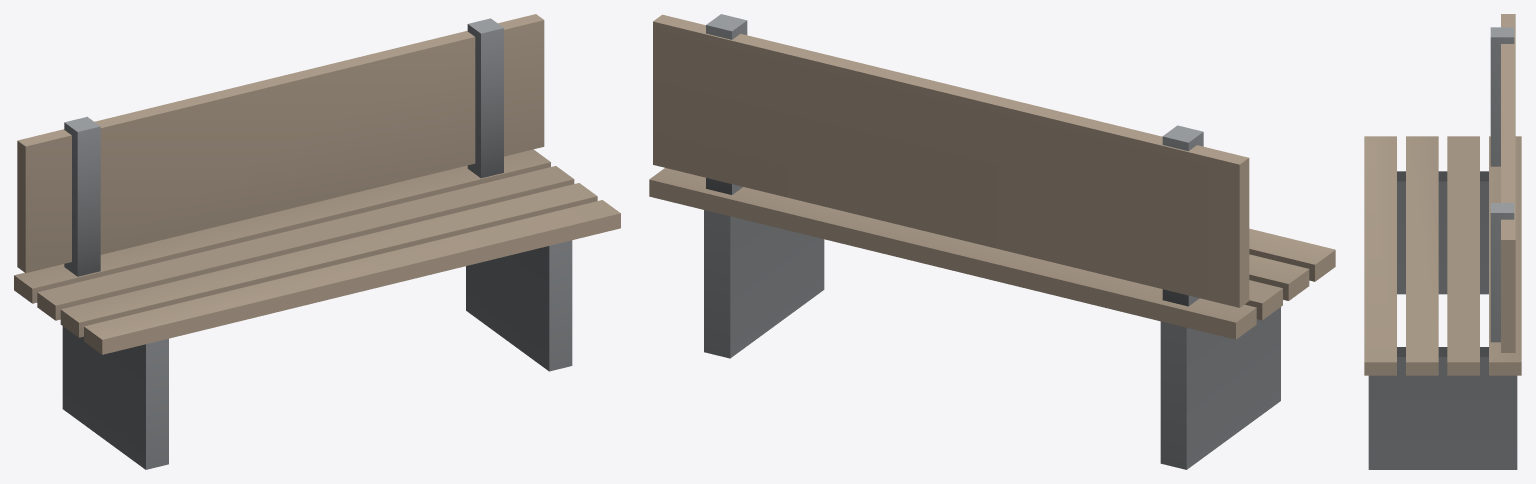
File: bench.lod1.glb
The picture shows the model from 3 angles, left to right: view 1: azimuth 30°, elevation 25°; view 2: azimuth 150°, elevation 25°; view 3: azimuth 270°, elevation 25°; orthographic projection. The views are drawn at different scales.
Visible parts, largest first — view 1: props_bench.lod1; view 2: props_bench.lod1; view 3: props_bench.lod1.
Boxes of the visible parts, box(x1,y1,x2,y2) form: props_bench.lod1: box(14, 14, 620, 469); props_bench.lod1: box(649, 14, 1335, 469); props_bench.lod1: box(1364, 14, 1521, 469).
Bounding box in the file's own units: 1.8 × 0.955 × 0.53.
